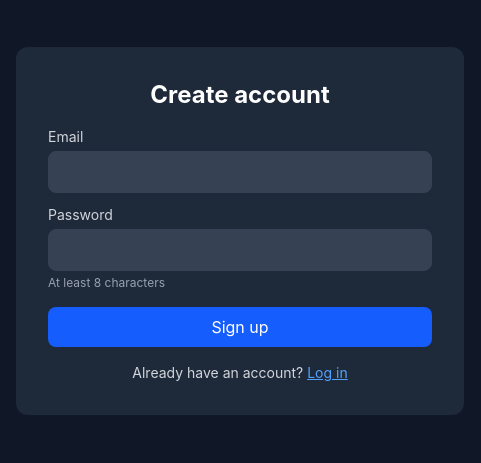
Scenario: a taken email shows the message of the API and keeps the form
This screenshot has width=481, height=463.
Type "new@example.com" into the field labelled "Email". click: [240, 172]
box: [48,151,432,193]
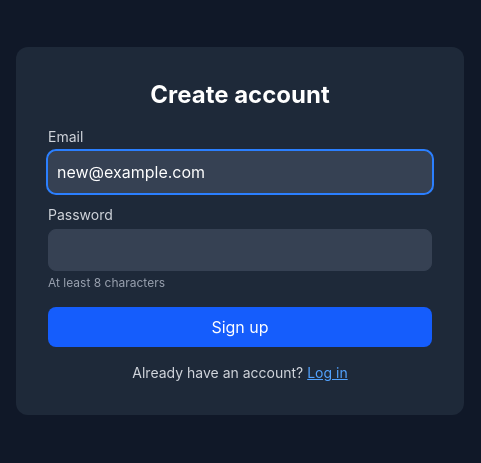
Type "password1" into the password field labelled "Password". click: [240, 250]
box: [48,229,432,271]
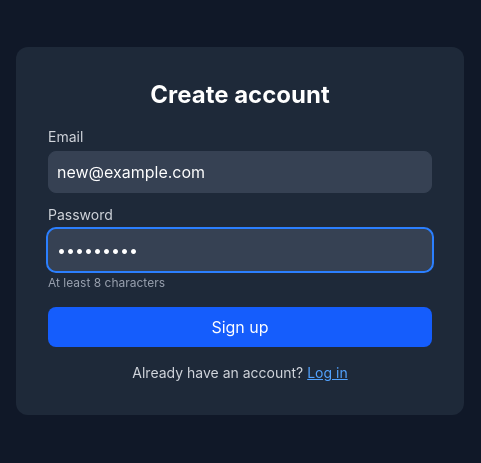
Click the button "Sign up". click: [240, 327]
box: [48,307,432,347]
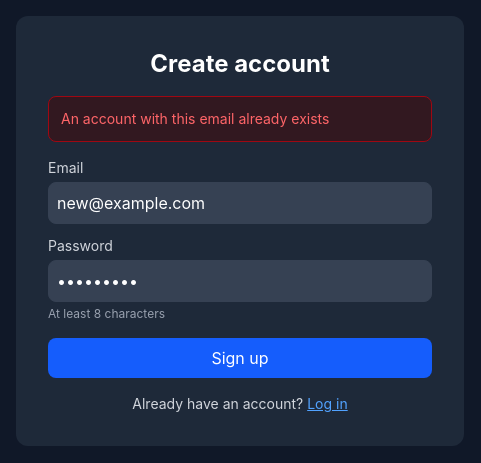
Expected: the button "Sign up" is enabled, [48,338,432,378]
Expected: the message reads "An account with this email already exists", [61,110,329,127]
